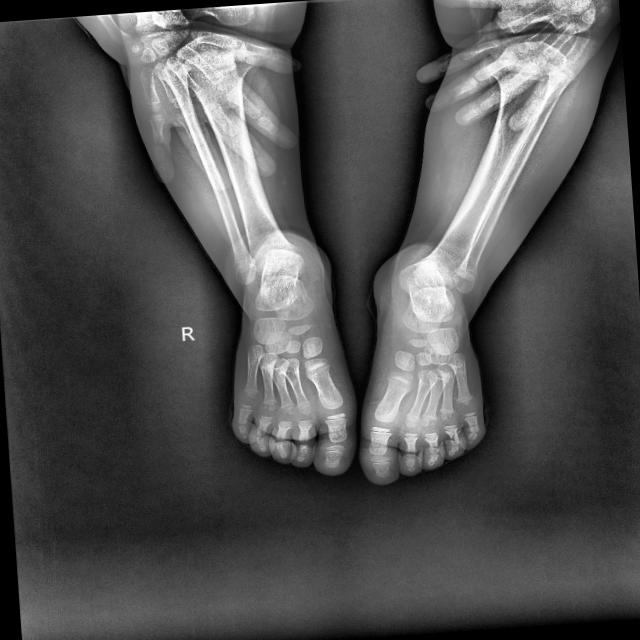Not_Fracture: (65, 0, 640, 510)
